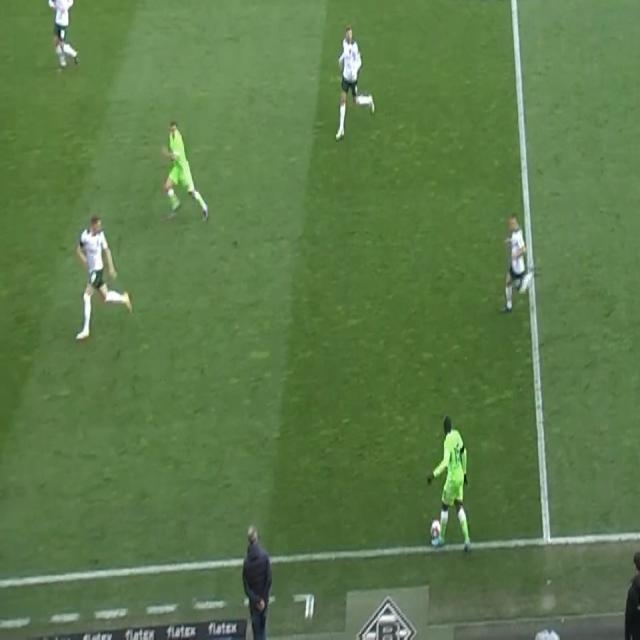ball: (430, 518, 442, 540)
